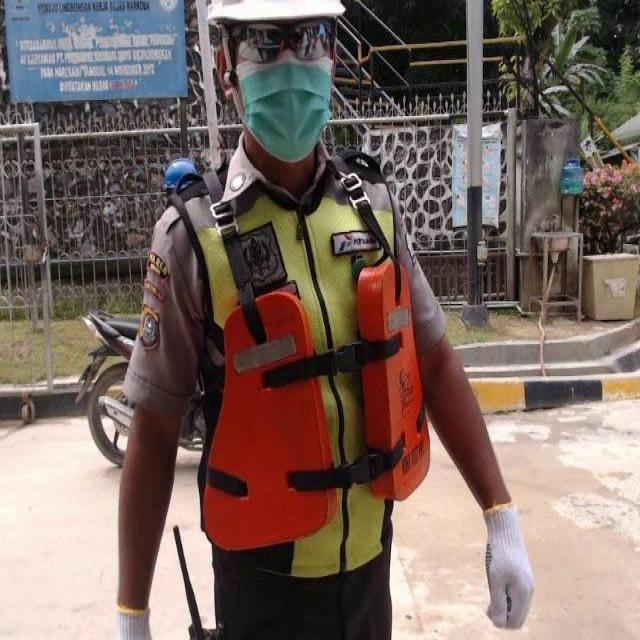Vest: (187, 251, 434, 553)
